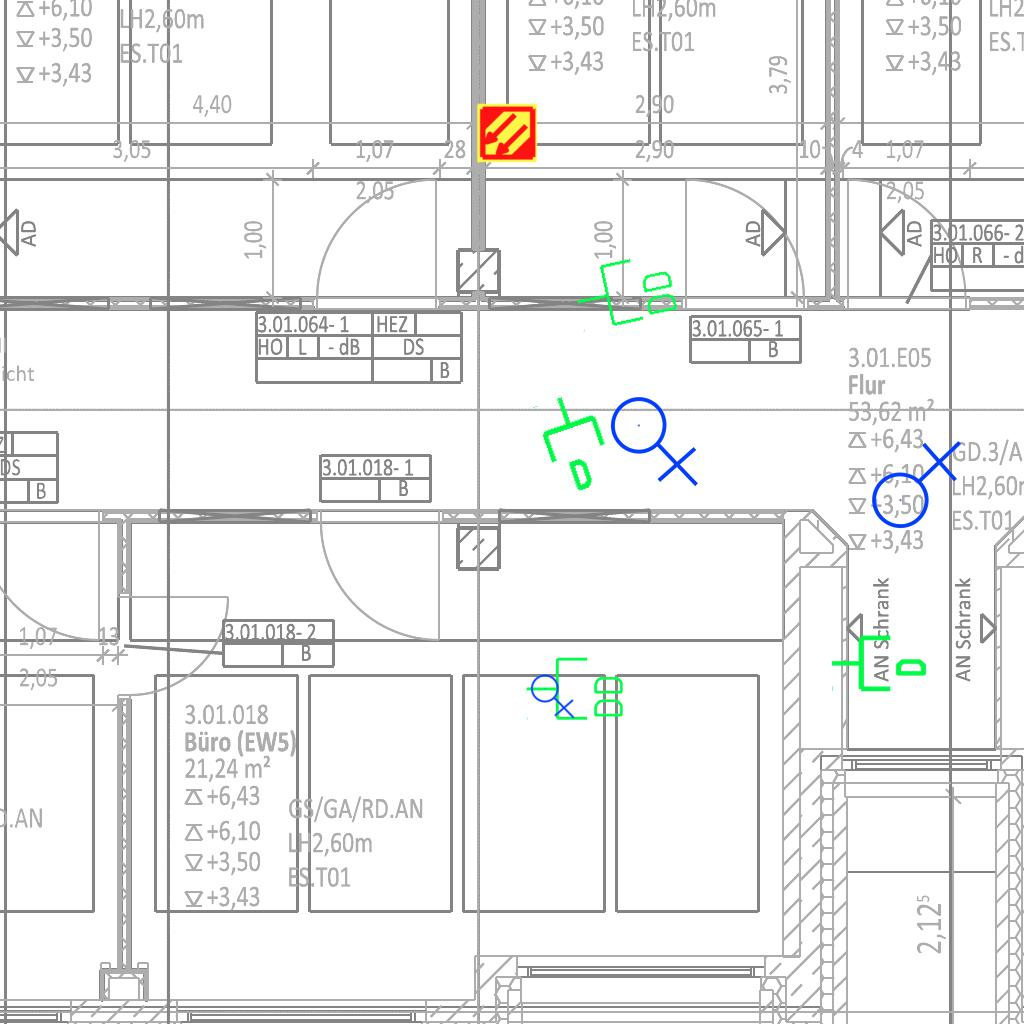ASR_Ansaugrauchmelder: (475, 101, 539, 165)
Datenanschluss_einfach: (527, 383, 626, 501), (829, 627, 929, 696)
Datenanschluss_zweifach: (567, 248, 684, 337), (524, 655, 627, 724)
Elektroanschluss_allgemein_230V_Geraeteanschlussdose_230V: (609, 388, 703, 487), (863, 436, 962, 530), (530, 670, 577, 719)
